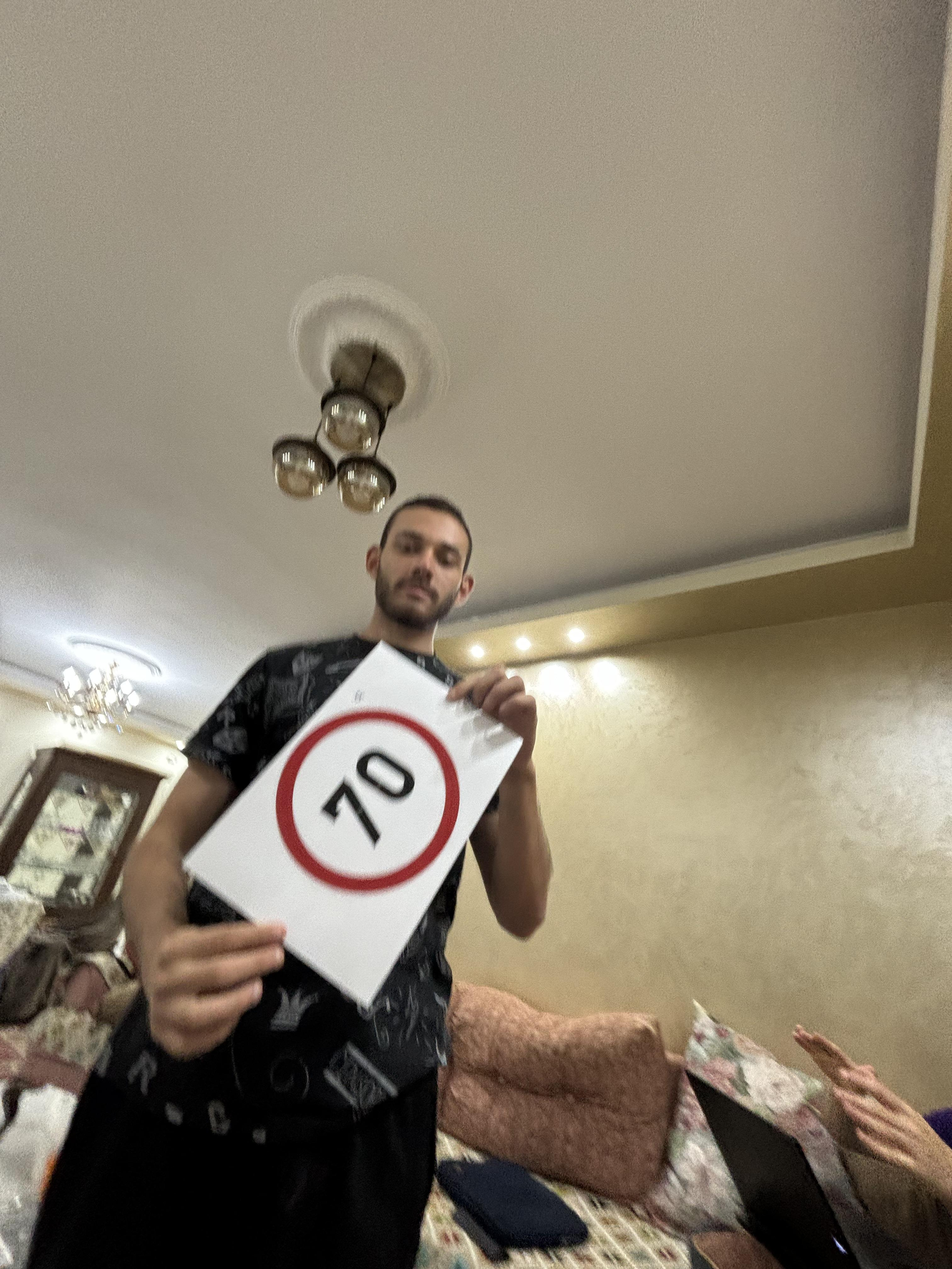70-Speed: (271, 696, 473, 903)
